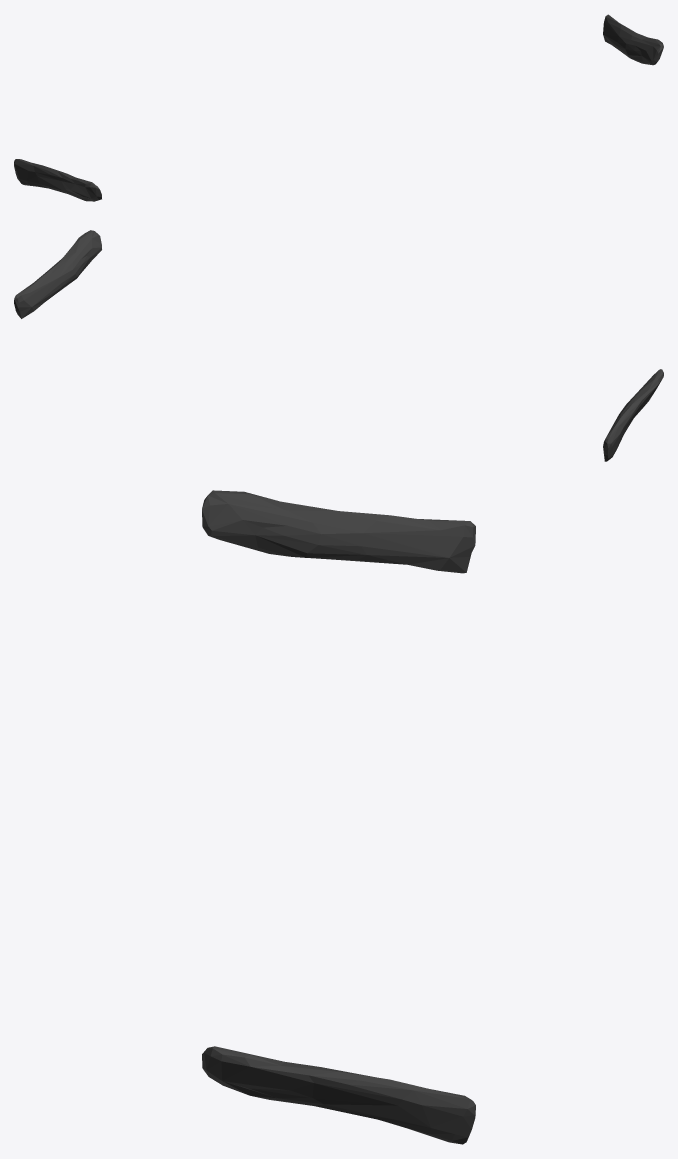
The model's file is lig_lateral_femoropatellar.glb.
3 renders of one model, top to bottom at view 1: azimuth 30°, elevation 25°; view 2: azimuth 150°, elevation 25°; view 3: azimuth 270°, elevation 25°, orthographic. The views are drawn at different scales.
Visible parts, largest first — view 1: lig_lateral_femoropatellar; view 2: lig_lateral_femoropatellar; view 3: lig_lateral_femoropatellar.
Boxes of the visible parts, x1,y1,x2,y2 form: lig_lateral_femoropatellar: (14, 14, 663, 201); lig_lateral_femoropatellar: (14, 230, 663, 461); lig_lateral_femoropatellar: (202, 490, 475, 1144).
Size of the model in its own units: 0.00763 by 0.000547 by 0.00152.
Materials: 1 (1 with a texture image).
